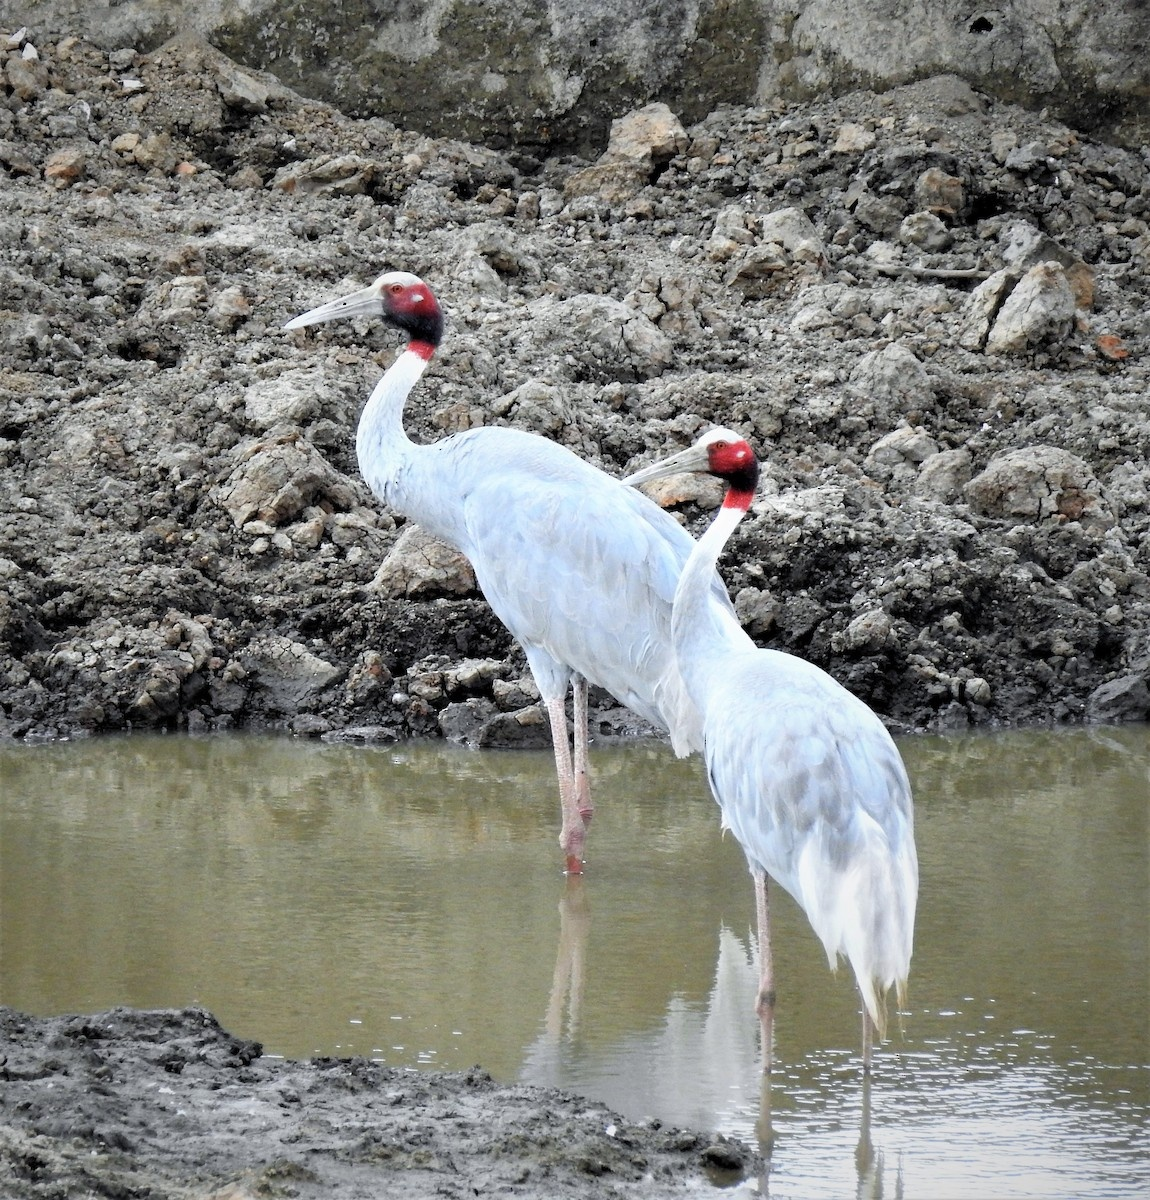crane: (272, 243, 725, 864), (621, 385, 921, 1130)
